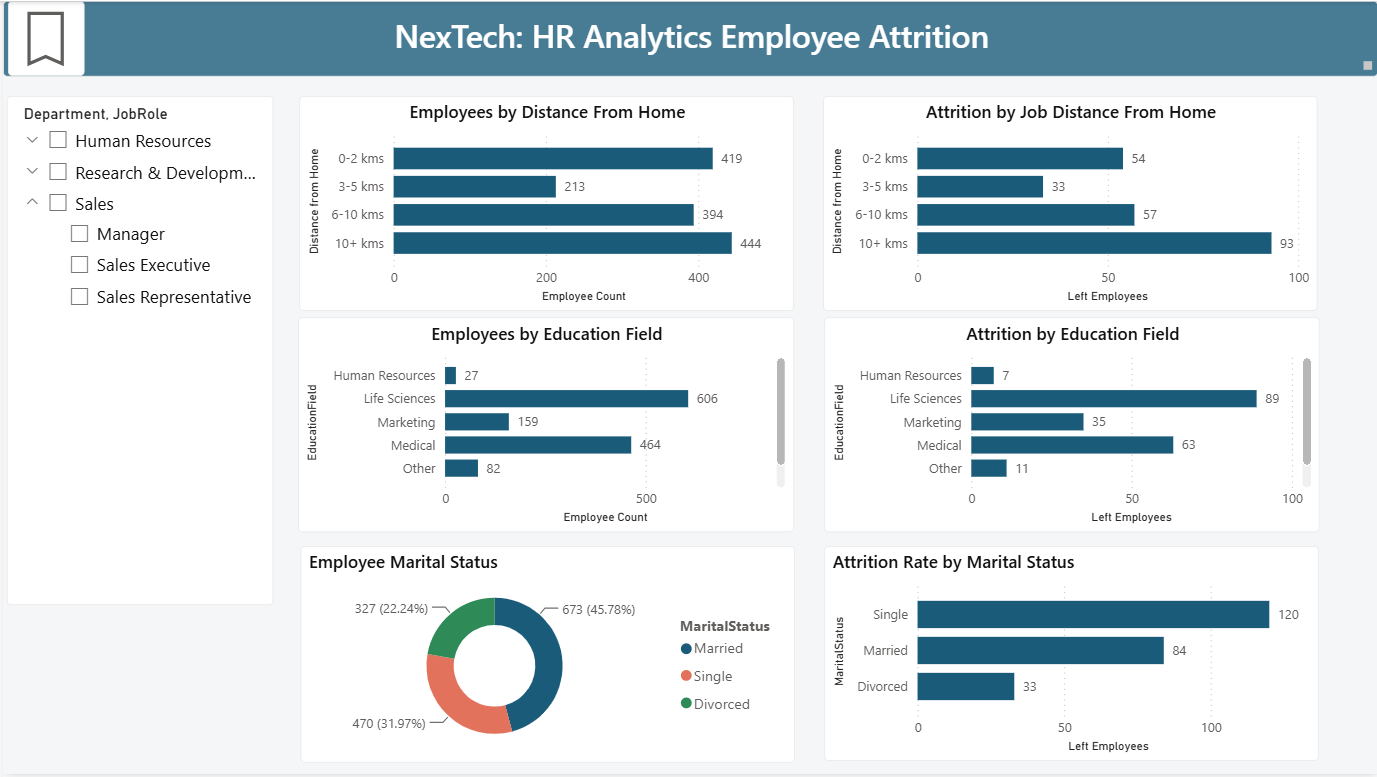

The page's visual inventory and layout, read from the dashboard file:
{"tool":"powerbi","page":{"name":"Personal Parameters","canvas":[1280,720],"ordinal":5},"visuals":[{"type":"textbox","title":"NexTech: Personal Parameter Analysis","box":[0,0,1279.8,70],"z":0},{"type":"slicer","fields":{"Values":["Survey Input.Department","Survey Input.JobRole"]},"box":[3.5,88.4,247.7,473.3],"z":1000},{"type":"barChart","title":"Employees by Distance From Home","fields":{"Category":["Survey Input.DistancFromHomeBins"],"Y":["Sum(Survey Input.EmployeeCount)"]},"box":[275.8,88.3,460,200],"z":2000},{"type":"barChart","title":"Attrition by Job Distance From Home","fields":{"Category":["Survey Input.DistancFromHomeBins"],"Y":["All_Measures.Left Employees"]},"box":[763.2,88.3,460,200],"z":3000},{"type":"donutChart","title":"Employee Marital Status","fields":{"Category":["Survey Input.MaritalStatus"],"Y":["Sum(Survey Input.EmployeeCount)"]},"box":[277.3,506.8,460,201.2],"z":4000},{"type":"barChart","title":"Attrition Rate by Marital Status","fields":{"Category":["Survey Input.MaritalStatus"],"Y":["All_Measures.Left Employees"]},"box":[764.4,506.8,460,200],"z":5000},{"type":"barChart","title":"Employees by Education Field","fields":{"Category":["Survey Input.EducationField"],"Y":["Sum(Survey Input.EmployeeCount)"]},"box":[274.8,294.5,461.4,200],"z":6000},{"type":"barChart","title":"Attrition by Education Field","fields":{"Category":["Survey Input.EducationField"],"Y":["All_Measures.Left Employees"]},"box":[763.4,294.5,461,200],"z":7000},{"type":"actionButton","box":[4.9,0,71.2,69.9],"z":8000}]}

Visuals, with their boxes on the page's 1280x720 design canvas (x1, y1, x2, y2). These are canvas units, not pixel positions in the 1377x777 screenshot, which may show the page scaled, cropped or inside an application window:
"NexTech: Personal Parameter Analysis" textbox: (0, 0, 1280, 70)
slicer - Survey Input.Department x Survey Input.JobRole: (4, 88, 251, 562)
"Employees by Distance From Home" barChart: (276, 88, 736, 288)
"Attrition by Job Distance From Home" barChart: (763, 88, 1223, 288)
"Employee Marital Status" donutChart: (277, 507, 737, 708)
"Attrition Rate by Marital Status" barChart: (764, 507, 1224, 707)
"Employees by Education Field" barChart: (275, 294, 736, 494)
"Attrition by Education Field" barChart: (763, 294, 1224, 494)
actionButton: (5, 0, 76, 70)
